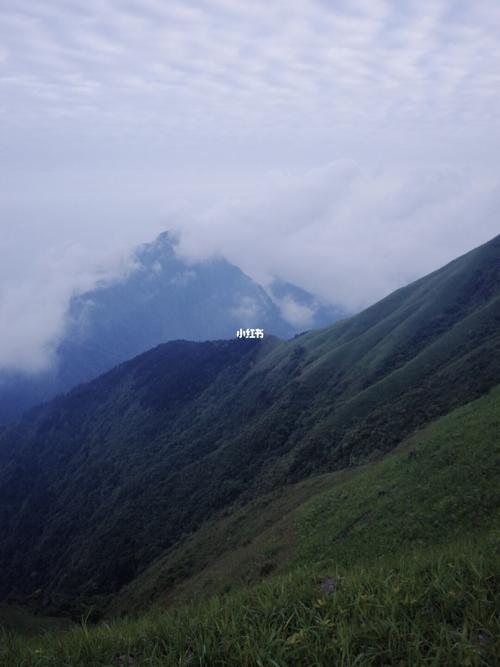mountain: (11, 342, 427, 613)
